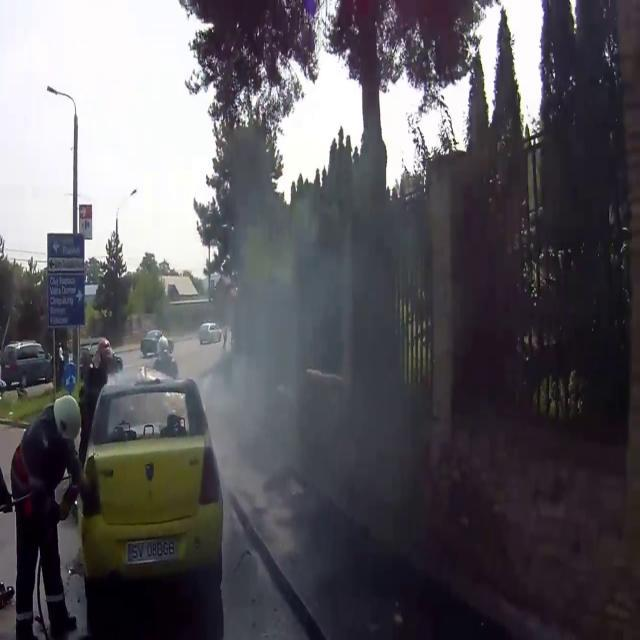Smoke: (185, 127, 447, 620)
